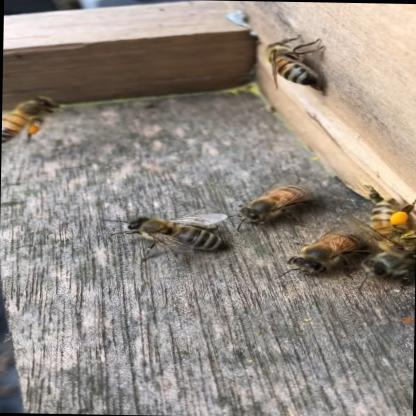bee: (272, 182, 416, 292), (109, 197, 232, 264), (218, 168, 343, 232), (1, 84, 97, 166), (239, 28, 339, 95)
